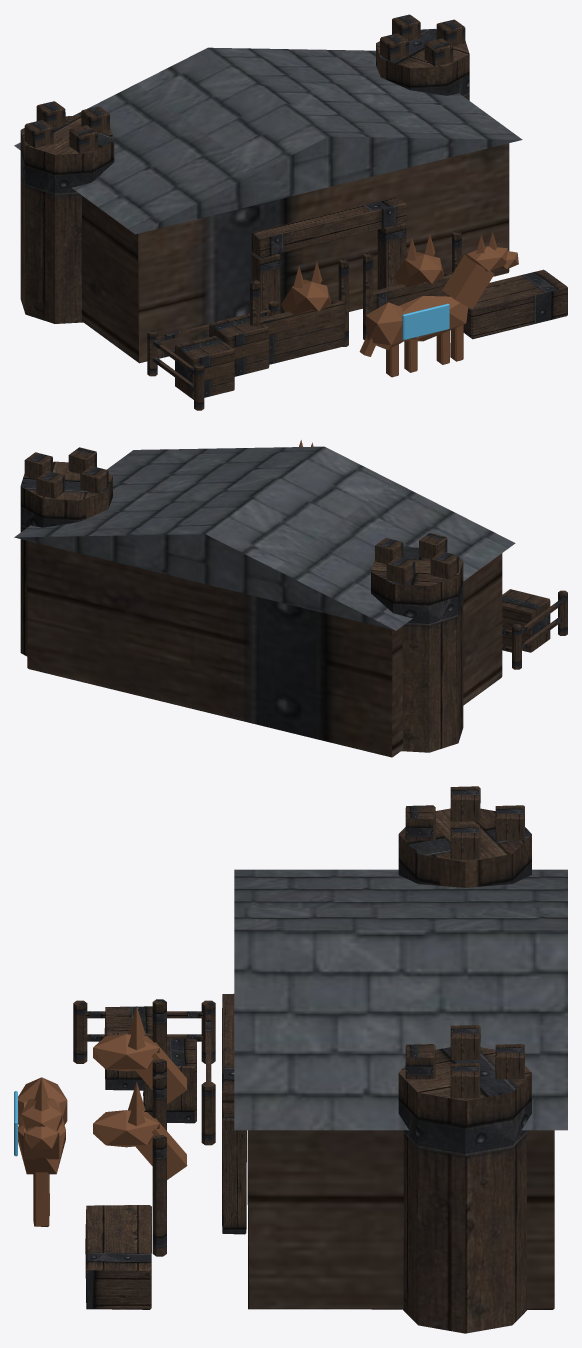
The model's file is edificio-b_017-e2-n7S-XiOC.glb.
The picture shows the model from 3 angles, top to bottom: view 1: azimuth 30°, elevation 25°; view 2: azimuth 150°, elevation 25°; view 3: azimuth 270°, elevation 25°; orthographic projection. The views are drawn at different scales.
Parts seen in each view (by area): view 1: envolvente_establo, caballos_establo, team_color; view 2: envolvente_establo; view 3: envolvente_establo, caballos_establo.
Part boxes in pixels (x1,y1,x2,y2): envolvente_establo: (14, 14, 567, 410); caballos_establo: (281, 232, 518, 377); team_color: (402, 303, 449, 340); envolvente_establo: (14, 446, 567, 757); envolvente_establo: (73, 786, 567, 1333); caballos_establo: (18, 1006, 187, 1226).
Bounding box in the file's own units: 54.4 × 22 × 43.16.
3 materials, 1 textured.
